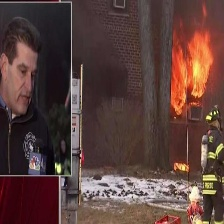fire: (170, 20, 210, 111)
